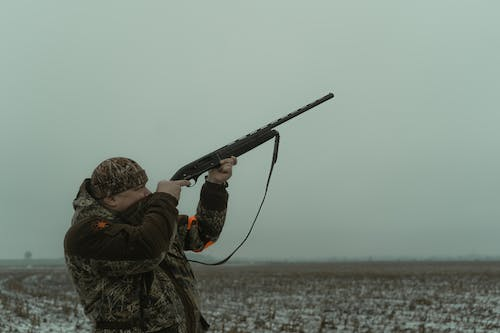gun: (113, 91, 336, 221)
